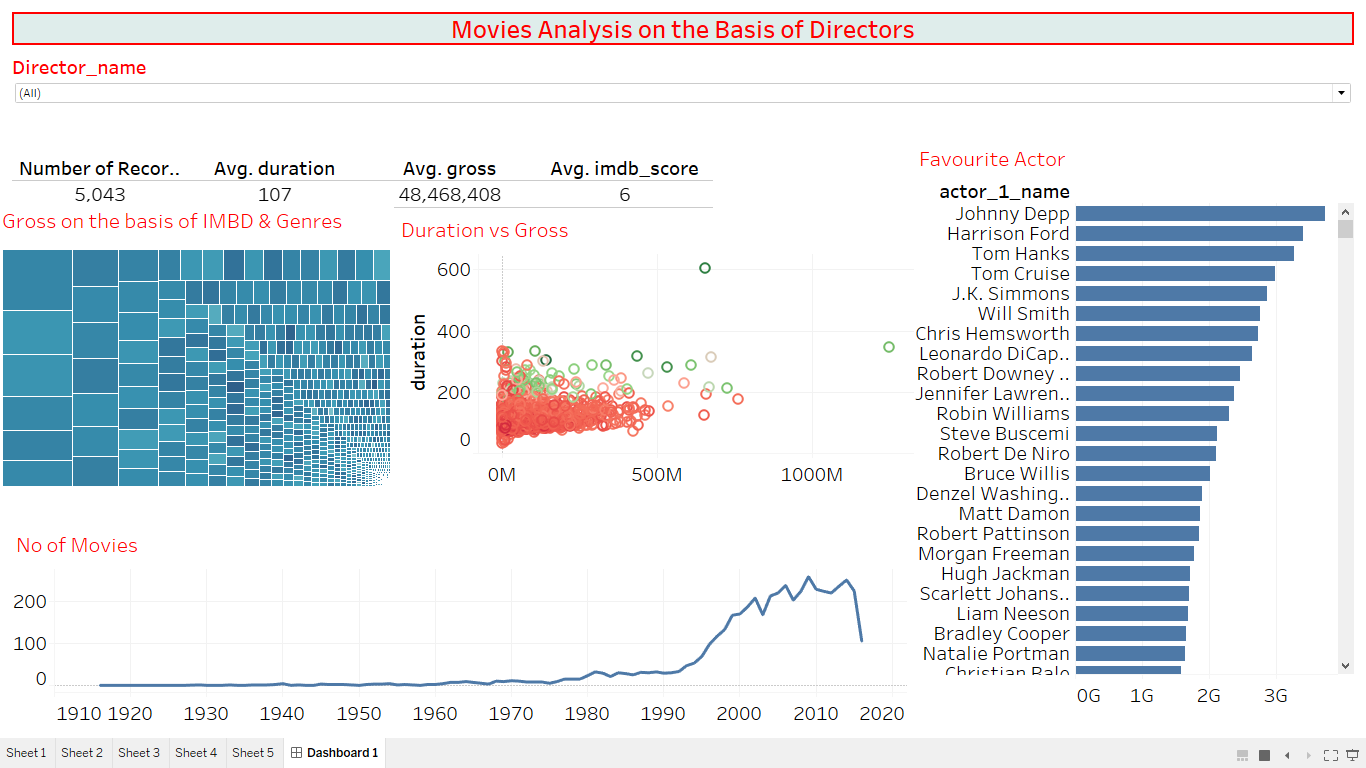

This screenshot's page, from the dashboard's own definition file:
{"tool":"tableau","page":{"name":"Dashboard 1","canvas":[1000,1000],"units":"permille","ordinal":0},"visuals":[{"type":"title","box":[6.9,13.3,986.1,68.1]},{"type":"filter","title":"Sheet 1","param":"[federated.0zm80b412vive71dtaeph0ubf821].[none:director_name:nk]","box":[6.9,81.4,986.1,101.3]},{"type":"worksheet","title":"Sheet 1","mark":"Automatic","box":[6.9,197.2,659.7,512.9]},{"type":"worksheet","title":"Sheet 5","mark":"Automatic","rows":["actor_1_name"],"cols":["gross"],"box":[666.6,197.2,326.4,789.5]},{"type":"worksheet","title":"Sheet 2","mark":"Automatic","rows":["duration"],"cols":["gross"],"box":[290.9,285.7,378.4,373.8]},{"type":"worksheet","title":"Sheet 3","mark":"Automatic","rows":["Number of Records"],"cols":["title_year"],"box":[6.9,710.1,659.7,276.6]}]}

Visuals, with their boxes on the dashboard's canvas, which has no fixed pixel size, in thousandths of its width and height (x1, y1, x2, y2). These are canvas units, not pixel positions in the 1366x768 screenshot, which may show the page scaled, cropped or inside an application window:
title: BBox(7, 13, 993, 81)
"Sheet 1" filter: BBox(7, 81, 993, 183)
"Sheet 1" worksheet: BBox(7, 197, 667, 710)
"Sheet 5" worksheet: BBox(667, 197, 993, 987)
"Sheet 2" worksheet: BBox(291, 286, 669, 660)
"Sheet 3" worksheet: BBox(7, 710, 667, 987)
